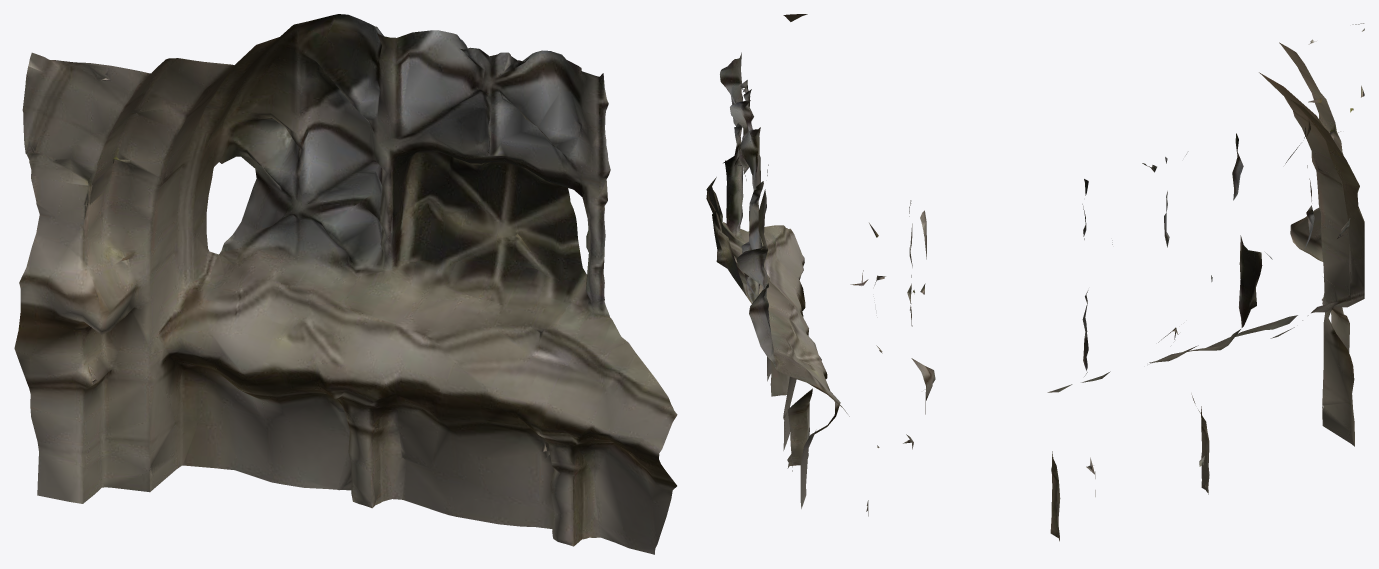
3 views of the same model, side by side, from view 1: azimuth 30°, elevation 25°; view 2: azimuth 150°, elevation 25°; view 3: azimuth 270°, elevation 25° (orthographic). The views are drawn at different scales.
Size of the model in its own units: 2.22 by 2.22 by 2.15.
Materials: 1 (1 with a texture image).
